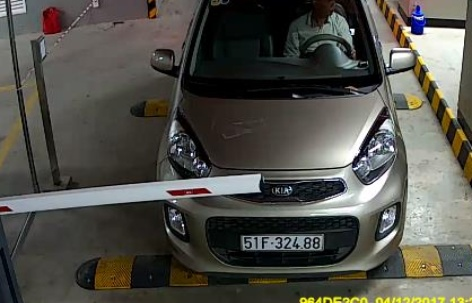plate: (240, 230, 327, 254)
